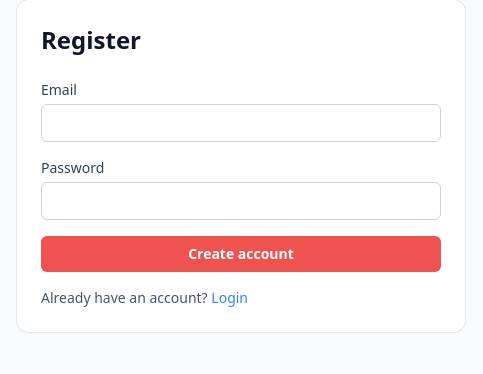
Test: RegisterPage › validates password length client-side
Step 1. Type "ash@example.com" into the field labelled "Email" → [241, 123], box x1=41 y1=104 x2=441 y2=142
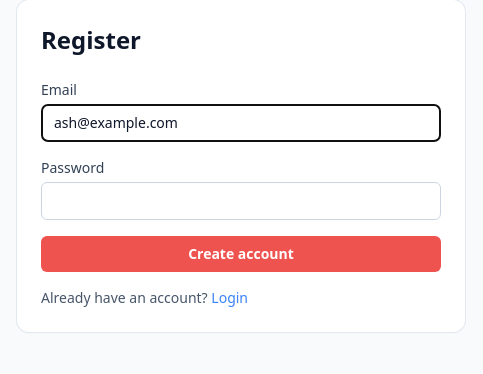
Step 2. Type "short" into the password field labelled "Password" → [241, 201], box x1=41 y1=182 x2=441 y2=220
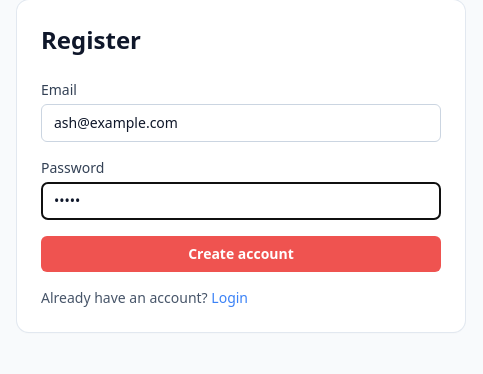
Step 3. Click the button "Create account" → [241, 254], box x1=41 y1=236 x2=441 y2=272
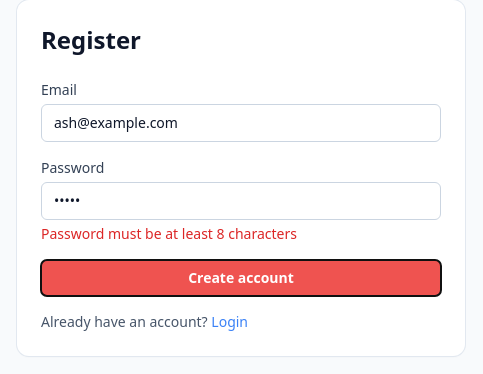
Result: the text "Password must be at least 8 characters" is shown at x1=41 y1=224 x2=297 y2=243
